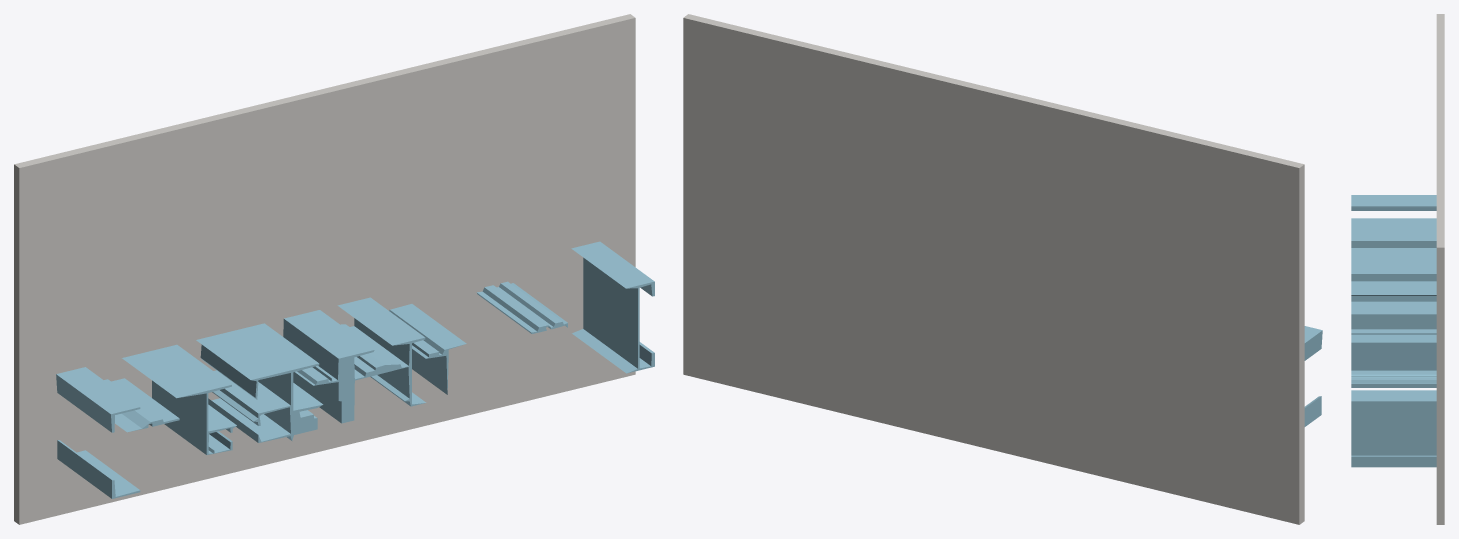
The picture shows the model from 3 angles, left to right: view 1: azimuth 30°, elevation 25°; view 2: azimuth 150°, elevation 25°; view 3: azimuth 270°, elevation 25°; orthographic projection. The views are drawn at different scales.
Parts seen in each view (by area): view 1: world; view 2: world; view 3: world.
Boxes of the visible parts, <box> form: world: <box>14,14,654,524</box>; world: <box>683,14,1322,524</box>; world: <box>1351,14,1444,524</box>.
Bounding box in the file's own units: 10.23 × 5.66 × 1.73.
